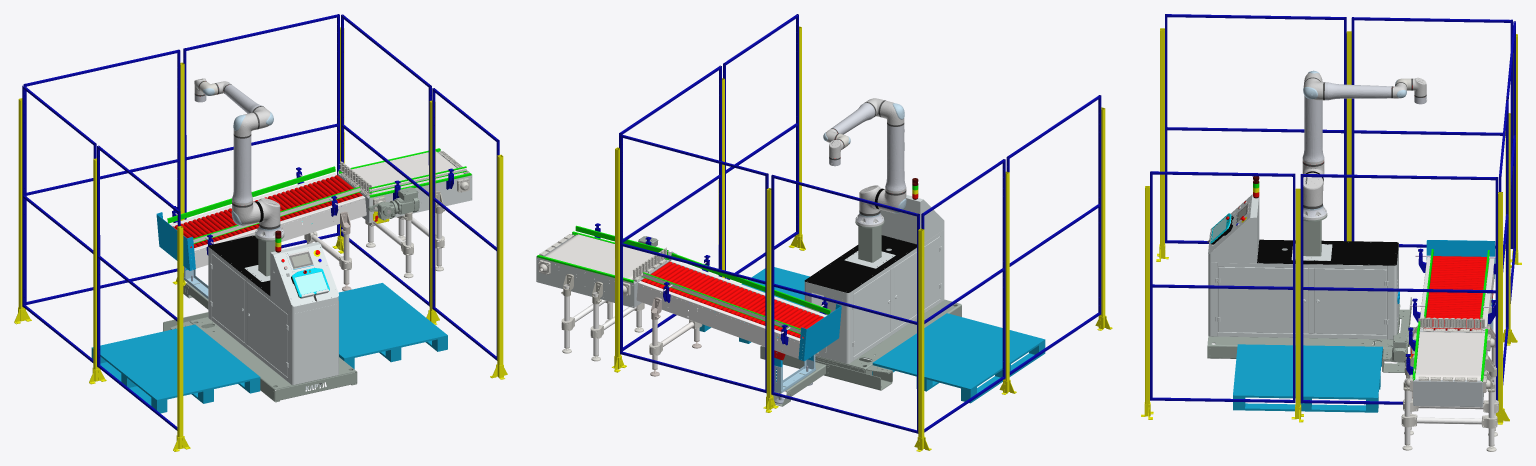
File: 07-base-esteira-90-direita-viradora-gradil.glb
3 renders of one model, left to right at view 1: azimuth 30°, elevation 25°; view 2: azimuth 150°, elevation 25°; view 3: azimuth 270°, elevation 25°, orthographic. The views are drawn at different scales.
Parts seen in each view (by area): view 1: KAPTA_AR_ORIENTACAO_FINAL; view 2: KAPTA_AR_ORIENTACAO_FINAL; view 3: KAPTA_AR_ORIENTACAO_FINAL.
Part boxes in pixels (x1,y1,x2,y2): KAPTA_AR_ORIENTACAO_FINAL: (14,14,507,451); KAPTA_AR_ORIENTACAO_FINAL: (536,14,1112,451); KAPTA_AR_ORIENTACAO_FINAL: (1141,14,1521,451).
Bounding box in the file's own units: 4.18 × 2.33 × 3.15.
